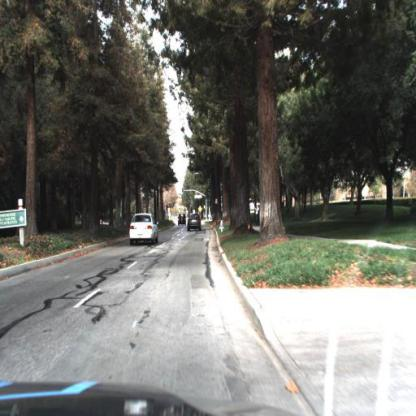car: (131, 211, 159, 248), (188, 212, 204, 233), (177, 213, 188, 229)
